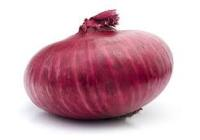onion: (22, 6, 177, 126)
